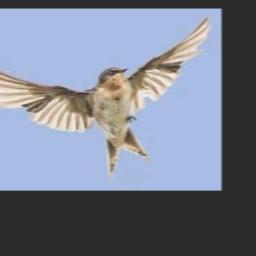Swallow: (0, 14, 210, 181)
